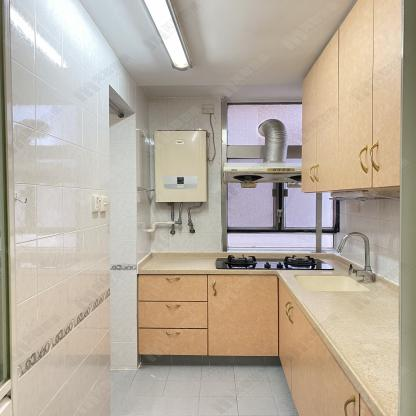Cupboard: (137, 275, 374, 414), (302, 0, 407, 192)
Exhaust Hood: (222, 119, 304, 188)
Faucet: (337, 230, 373, 279)
Sink: (291, 271, 379, 297)
Stove: (213, 253, 335, 270)
